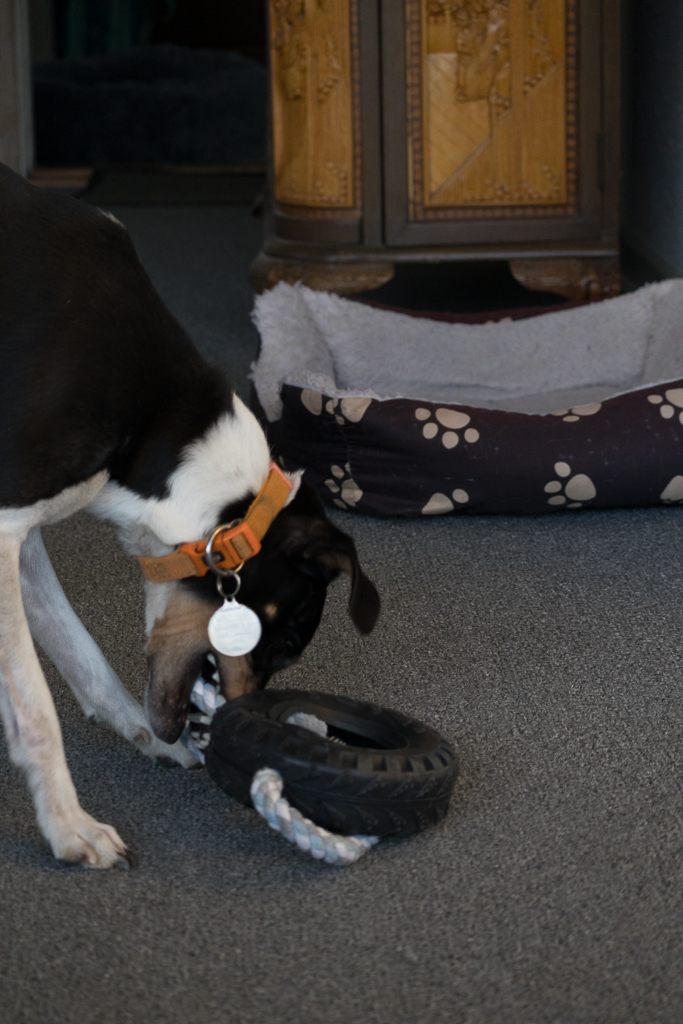Dog: (0, 160, 391, 882)
